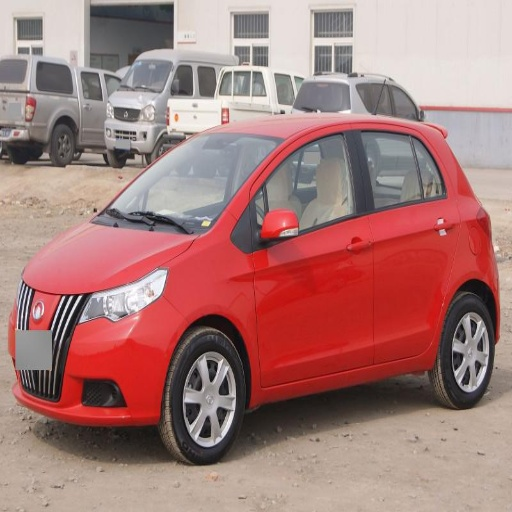front_bumper: (9, 285, 181, 424)
front_glass: (94, 134, 274, 233)
front_left_door: (251, 127, 374, 387)
